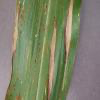Corn leaf blight: (8, 0, 78, 99)
